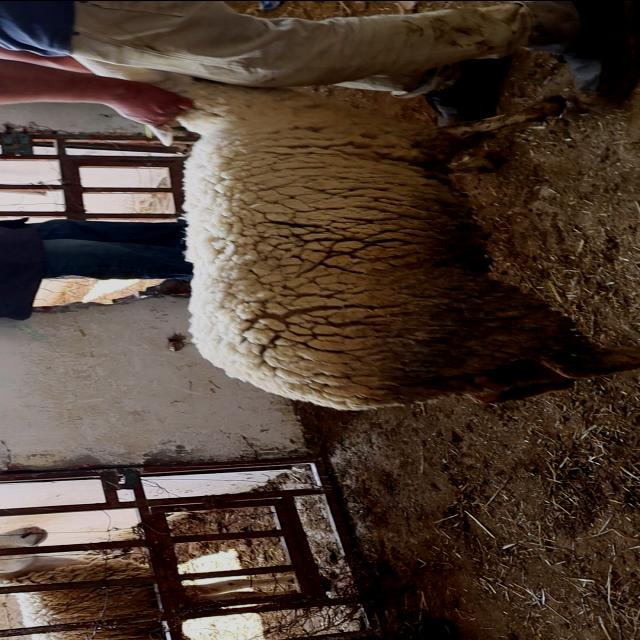Score_3: (160, 80, 639, 409)
